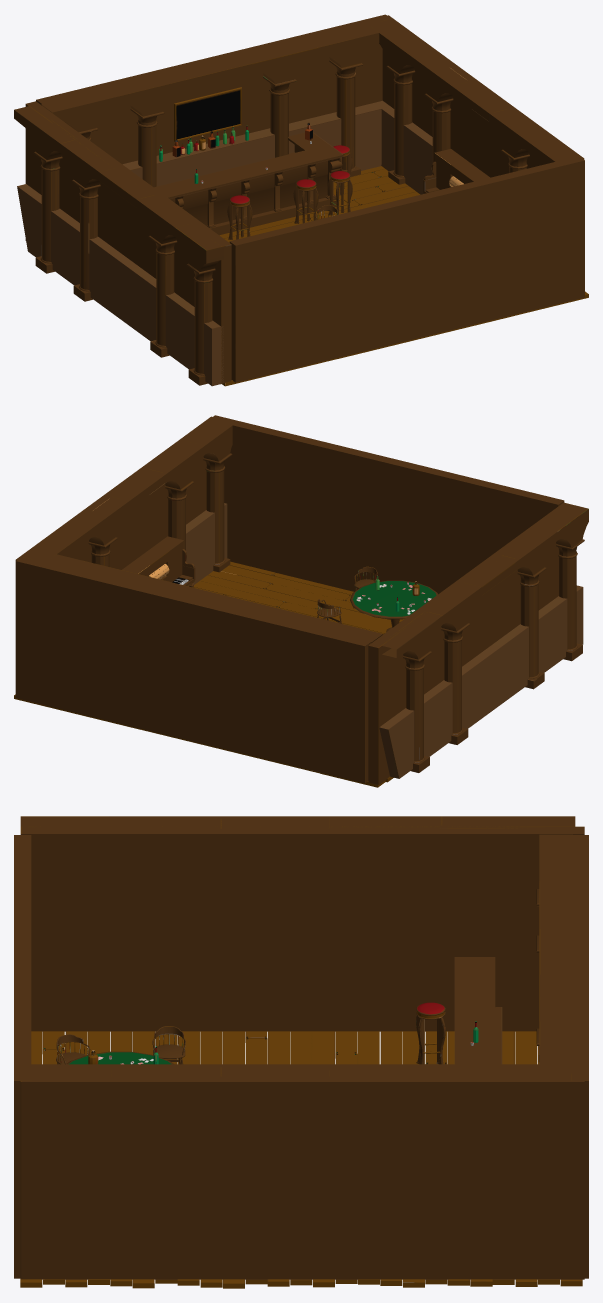
The model's file is saloon5.gltf.
3 views of the same model, one above another, from view 1: azimuth 30°, elevation 25°; view 2: azimuth 150°, elevation 25°; view 3: azimuth 270°, elevation 25° (orthographic). The views are drawn at different scales.
Parts seen in each view (by area): view 1: Model; view 2: Model; view 3: Model.
Part boxes in pixels (bbox=[...]): Model: bbox=[14, 14, 588, 386]; Model: bbox=[14, 415, 588, 787]; Model: bbox=[14, 816, 588, 1288].
Size of the model in its own units: 229 by 79.79 by 205.
Materials: 1 (1 with a texture image).
